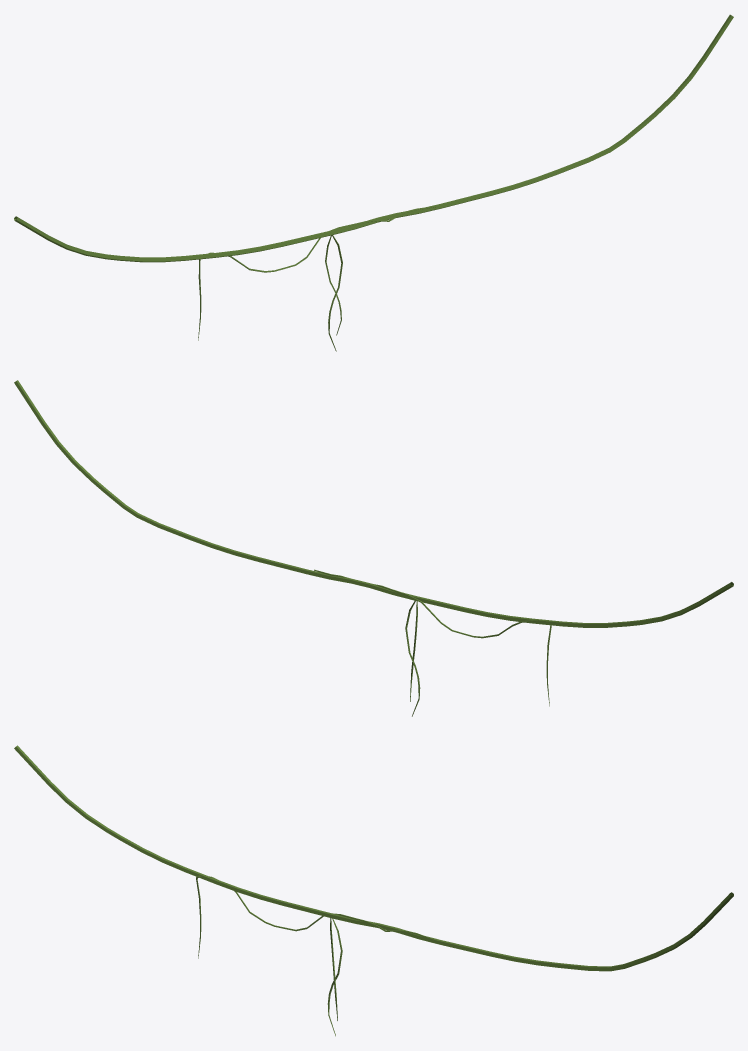
The model's file is SM_liana_jungle_02.fbx.
3 views of the same model, one above another, from view 1: azimuth 30°, elevation 25°; view 2: azimuth 150°, elevation 25°; view 3: azimuth 330°, elevation 25° (orthographic).
Parts seen in each view (by area): view 1: Line009; view 2: Line009; view 3: Line009.
Part boxes in pixels (x1,y1,x2,y2): Line009: (14,14,733,351); Line009: (14,380,733,716); Line009: (14,745,733,1036).
Bounding box in the file's own units: 558 × 178 × 8.48.
